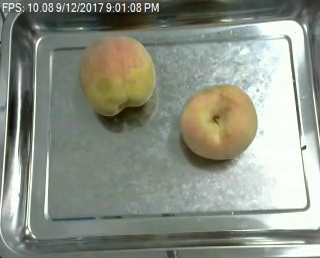Peach: (77, 34, 155, 117), (179, 83, 258, 160)
